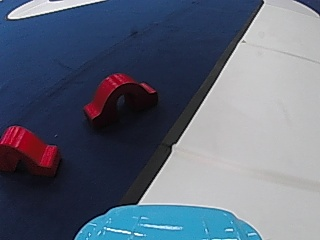bridge: (80, 70, 159, 129), (0, 123, 62, 178)
